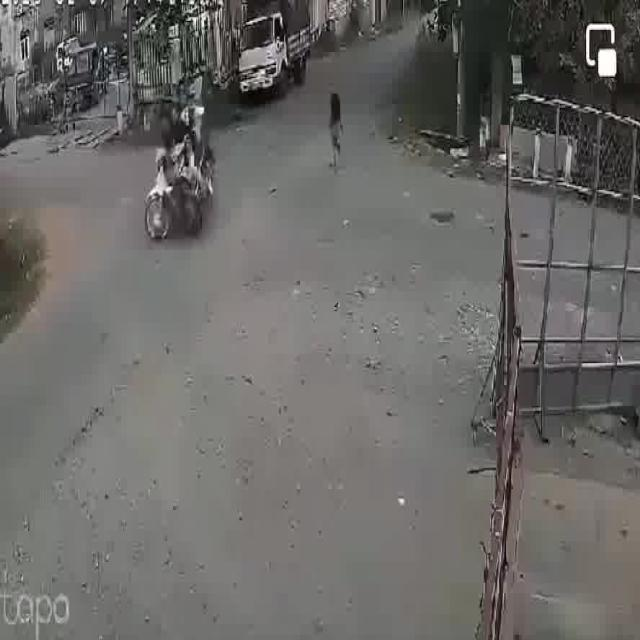multiple_accident: (138, 87, 222, 254)
